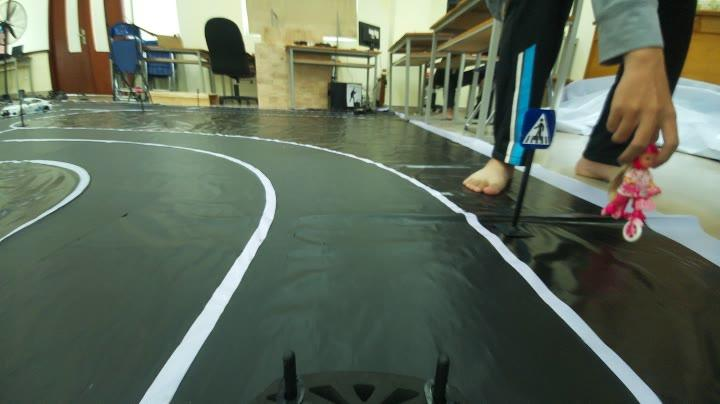crosswalk: (521, 108, 553, 148)
pedestrian: (601, 143, 650, 244)
